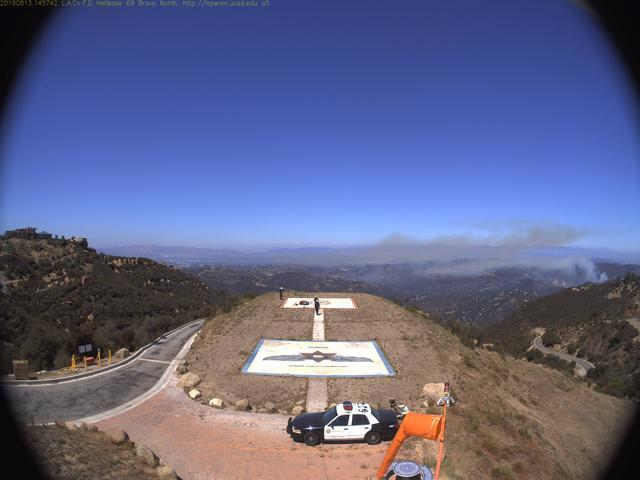smoke: (388, 221, 609, 286)
